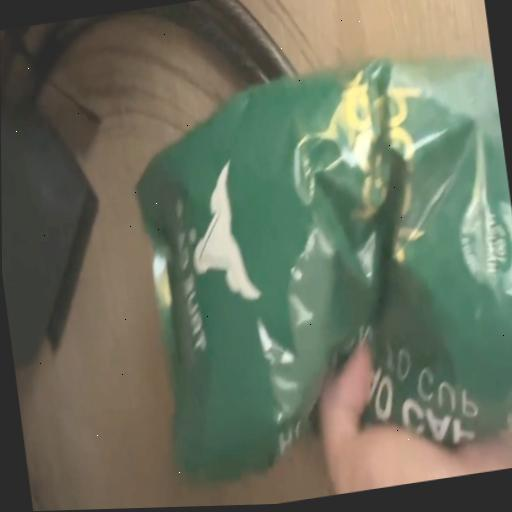cafe_xay: (137, 59, 512, 480)
